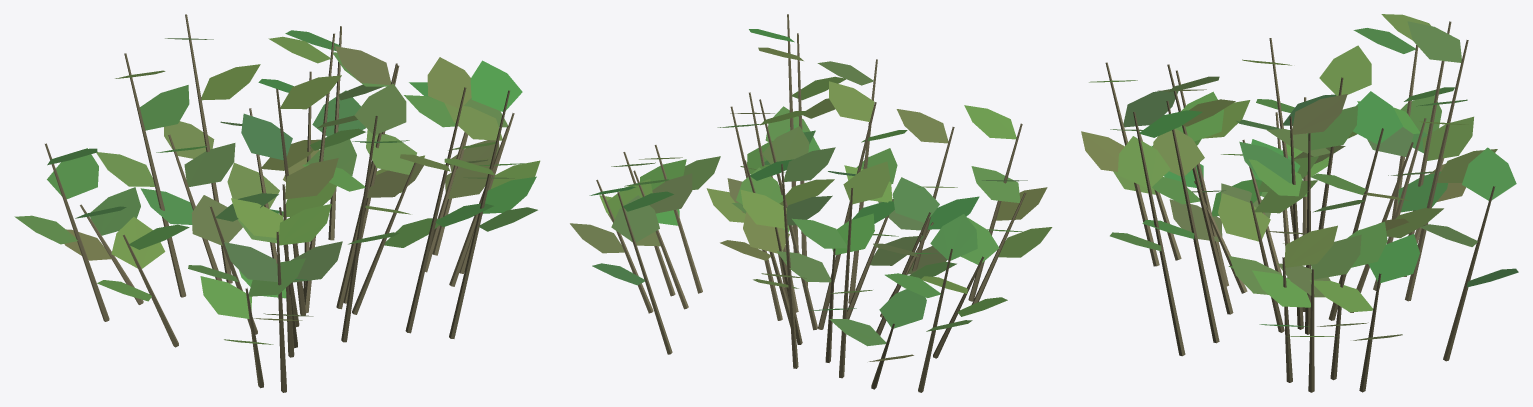
Rendered from bush-02.glb.
3 views of the same model, side by side, from view 1: azimuth 30°, elevation 25°; view 2: azimuth 150°, elevation 25°; view 3: azimuth 270°, elevation 25° (orthographic). The views are drawn at different scales.
Parts seen in each view (by area): view 1: part_000; view 2: part_000; view 3: part_000.
Part boxes in pixels (left/top/right/bottom): part_000: left=14, top=14, right=540, bottom=392; part_000: left=570, top=14, right=1052, bottom=392; part_000: left=1081, top=14, right=1518, bottom=392.
Bounding box in the file's own units: 1.49 × 0.7969 × 1.2.
